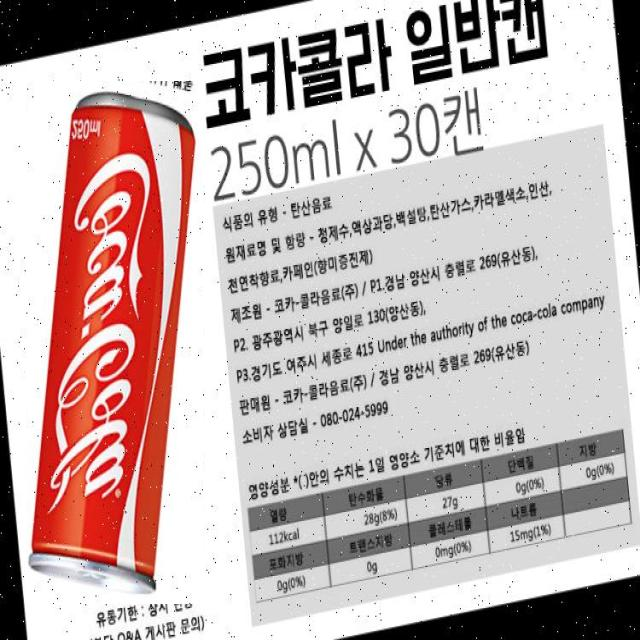coca-cola: (26, 81, 203, 604)
